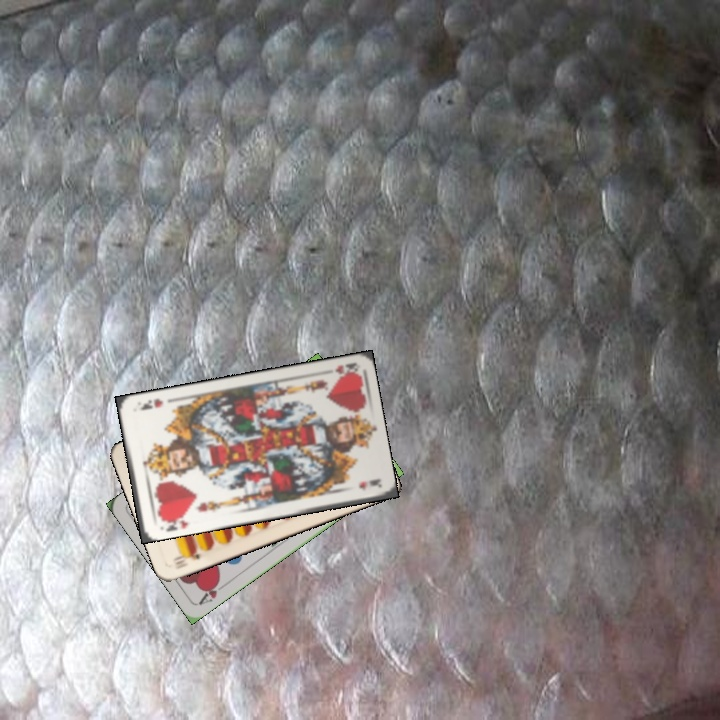E10: (168, 546, 202, 568)
HA: (195, 576, 230, 607)
HK: (157, 510, 191, 534), (331, 359, 359, 380)
